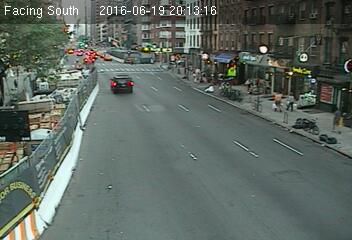neg: (305, 119, 321, 140), (249, 95, 263, 114), (294, 77, 308, 96), (309, 88, 323, 105)
pos: (329, 107, 349, 134), (269, 89, 288, 114), (284, 92, 299, 112)
